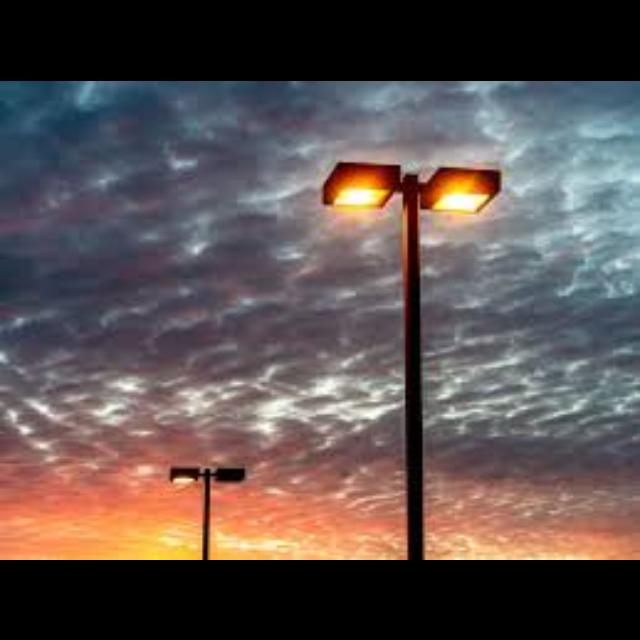Street-Lamp: (312, 150, 512, 560)
